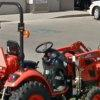Tractor: (7, 25, 100, 100)
